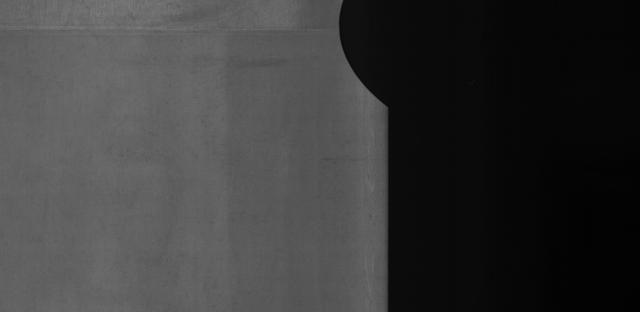crescent_gap: (309, 0, 391, 132)
welding_line: (3, 15, 354, 39)
